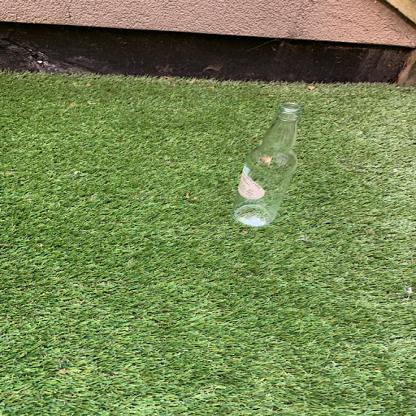trash: (231, 101, 304, 229)
